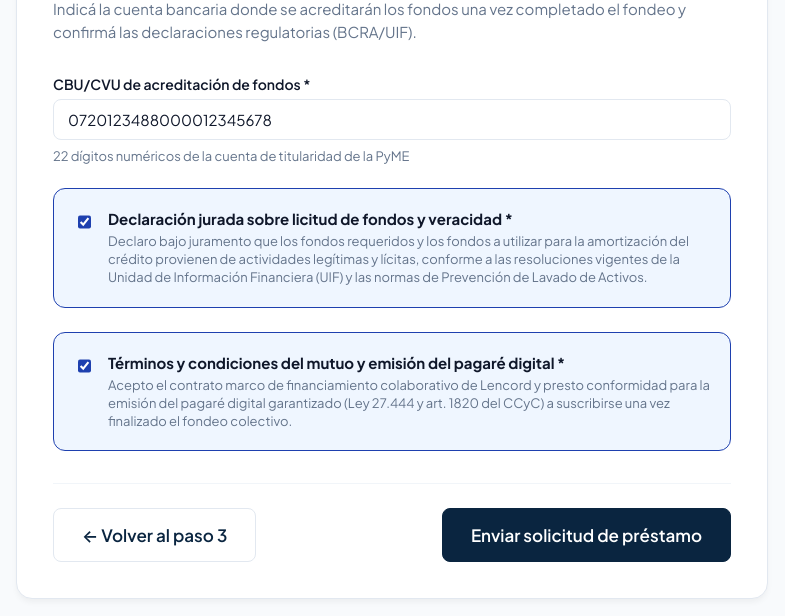
SME Loan Application Pre-population and Authenticated Submission (Issue #33) › Data Persistence across Refresh and Browser Restarts › saves submitted loan to localStorage and redirects to /solicitar/confirmacion
The width and height of the screenshot is (785, 616).
(page scrolled)
Click the button with test id "step4-submit-button" at (586, 535), box [442,508,731,562]
(page scrolled)
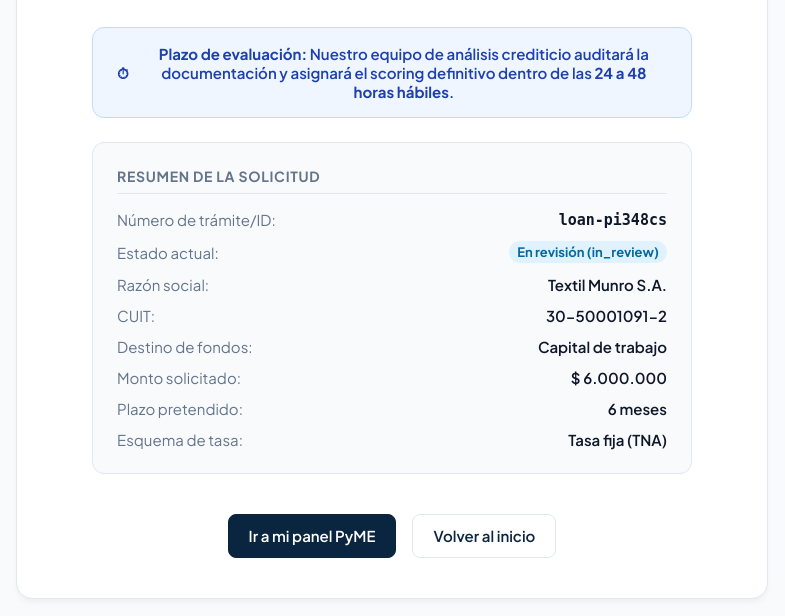
expect the text "Textil Munro S.A." is shown: met, box [548,275,667,294]
